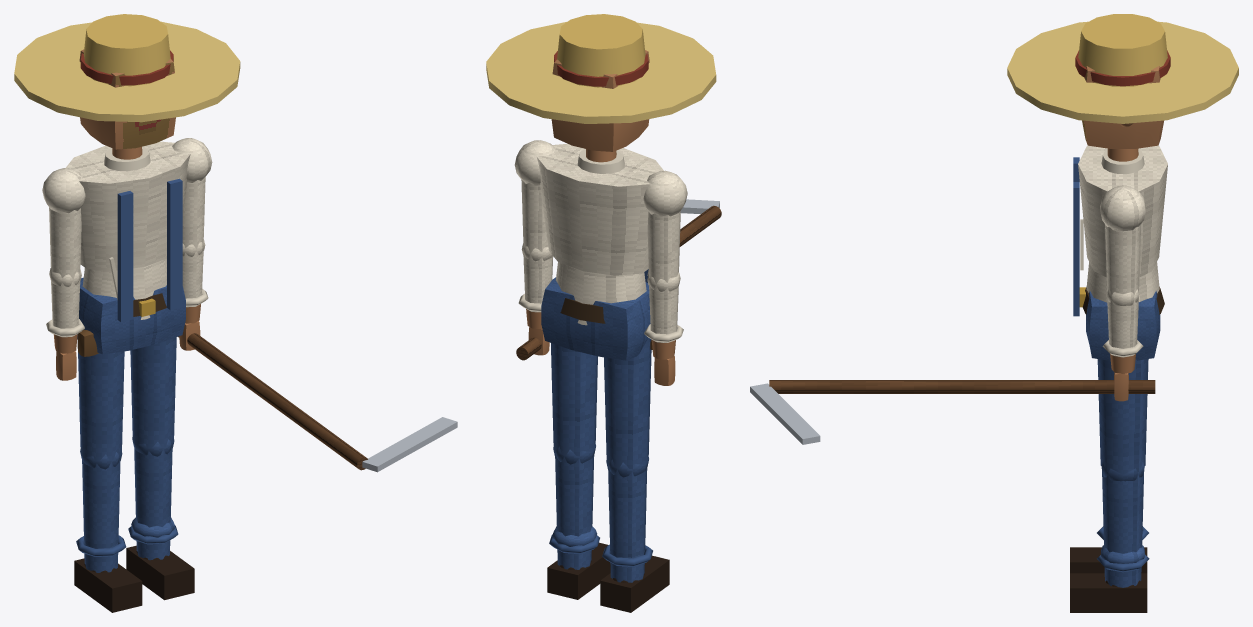
File: campesino.glb
The picture shows the model from 3 angles, left to right: view 1: azimuth 30°, elevation 25°; view 2: azimuth 150°, elevation 25°; view 3: azimuth 270°, elevation 25°; orthographic projection.
Visible parts, largest first — view 1: campesino, object 35, object 36, object 1, object 7, object 3, object 9, object 29, object 32, object 6, object 13, object 16 (+7 smaller); view 2: campesino, object 35, object 1, object 36, object 7, object 3, object 9, object 32, object 6, object 16, object 13, object 15 (+16 smaller); view 3: object 35, campesino, object 29, object 36, object 7, object 9, object 13, object 32, object 23, object 22, object 30, object 25 (+2 smaller).
Boxes of the visible parts, x1,y1,x2,y2 form: campesino: [66, 141, 190, 356]; object 35: [14, 21, 240, 122]; object 36: [83, 14, 170, 86]; object 1: [78, 351, 124, 461]; object 7: [130, 337, 176, 448]; object 3: [82, 458, 120, 572]; object 9: [134, 445, 172, 560]; object 29: [178, 333, 367, 470]; object 32: [79, 49, 175, 149]; object 6: [74, 558, 142, 612]; object 13: [126, 545, 194, 600]; object 16: [49, 207, 81, 279]; campesino: [536, 143, 663, 360]; object 35: [486, 22, 716, 123]; object 1: [604, 338, 651, 469]; object 36: [557, 14, 645, 87]; object 7: [551, 343, 597, 456]; object 3: [608, 466, 647, 582]; object 9: [555, 453, 594, 569]; object 32: [551, 50, 649, 151]; object 6: [600, 555, 669, 612]; object 16: [647, 210, 680, 284]; object 13: [547, 542, 610, 599]; object 15: [643, 170, 687, 216]; object 35: [1007, 21, 1238, 123]; campesino: [1073, 145, 1167, 360]; object 29: [769, 380, 1155, 393]; object 36: [1078, 14, 1167, 86]; object 7: [1097, 359, 1148, 474]; object 9: [1102, 470, 1144, 587]; object 13: [1070, 573, 1147, 612]; object 32: [1082, 66, 1163, 148]; object 23: [1105, 224, 1141, 295]; object 22: [1100, 185, 1145, 231]; object 30: [750, 383, 820, 444]; object 25: [1107, 294, 1138, 357].
Size of the model in its own units: 1.05 by 2.04 by 1.61.
Materials: 18 (4 with a texture image).
